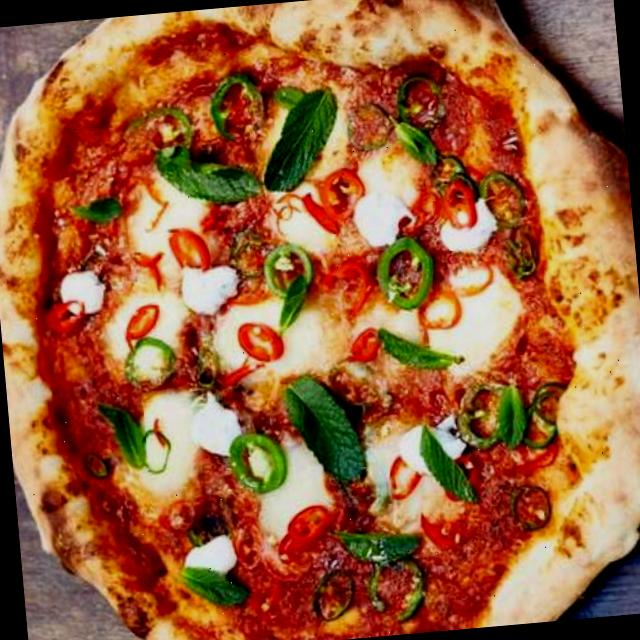basil: (284, 369, 368, 488), (252, 85, 342, 191), (152, 128, 260, 211), (414, 426, 478, 513), (373, 320, 463, 380), (376, 101, 439, 174), (332, 522, 422, 570), (98, 396, 147, 473), (178, 562, 250, 614), (491, 374, 528, 456), (66, 192, 119, 230)
cheese: (350, 265, 524, 387), (256, 85, 358, 252), (210, 296, 324, 389), (120, 174, 209, 270), (253, 446, 336, 544), (365, 419, 441, 526), (346, 147, 422, 246), (102, 296, 182, 381), (132, 396, 202, 490), (392, 417, 471, 479), (170, 258, 242, 316), (188, 387, 242, 463), (432, 195, 504, 252), (178, 534, 240, 583), (57, 266, 109, 322)
pizza: (0, 0, 640, 640)
